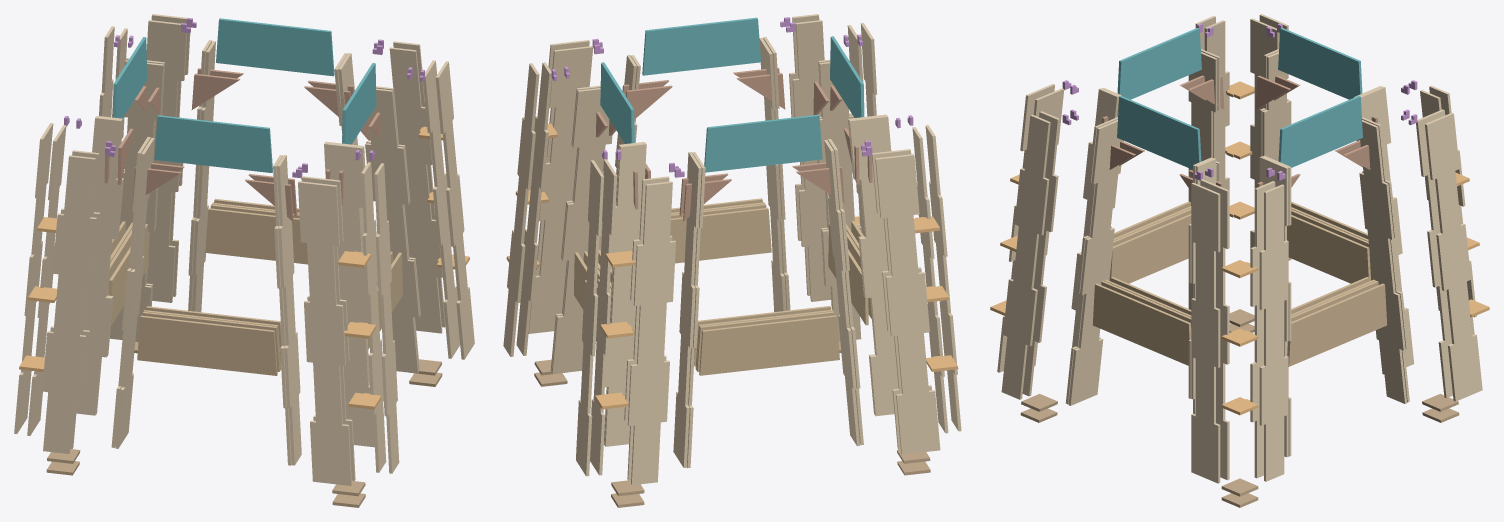
The model's file is R18A_FIX_EXPLODED.glb.
The picture shows the model from 3 angles, left to right: view 1: azimuth 30°, elevation 25°; view 2: azimuth 150°, elevation 25°; view 3: azimuth 270°, elevation 25°; orthographic projection. The views are drawn at different scales.
Parts seen in each view (by area): view 1: A01_LEG1_NEG_P1, A02_LEG4_NEG_P1, A02_LEG2_NEG_P2, A01_LEG1_POS_P1, C01_SIDE4_1_P1, A02_LEG2_POS_P2, A02_LEG4_POS_P1, B01_SIDE2_1_P1, B01_SIDE4_1_P1, A01_LEG3_NEG_P2, A01_LEG2_NEG_P1, A02_LEG1_NEG_P1 (+29 smaller); view 2: A01_LEG4_NEG_P1, A02_LEG3_NEG_P1, A01_LEG2_NEG_P2, A01_LEG2_POS_P2, A01_LEG4_POS_P1, C01_SIDE3_1_P1, A02_LEG3_POS_P1, B01_SIDE1_1_P1, B01_SIDE3_1_P1, A02_LEG1_NEG_P2, A01_LEG3_NEG_P1, A01_LEG3_POS_P1 (+30 smaller); view 3: A01_LEG2_NEG_P1, A01_LEG3_NEG_P1, A02_LEG2_NEG_P1, A02_LEG1_NEG_P1, A01_LEG1_POS_P2, A02_LEG3_POS_P2, C01_SIDE2_1_P1, C01_SIDE1_1_P1, B01_SIDE1_1_P1, B01_SIDE4_1_P1, B01_SIDE3_1_P1, B01_SIDE2_1_P1 (+25 smaller).
Boxes of the visible parts, x1=… form: A01_LEG1_NEG_P1: x1=298, y1=181, x2=351, y2=485; A02_LEG4_NEG_P1: x1=42, y1=155, x2=96, y2=453; A02_LEG2_NEG_P2: x1=389, y1=47, x2=442, y2=333; A01_LEG1_POS_P1: x1=324, y1=143, x2=374, y2=447; C01_SIDE4_1_P1: x1=137, y1=315, x2=277, y2=375; A02_LEG2_POS_P2: x1=365, y1=88, x2=419, y2=373; A02_LEG4_POS_P1: x1=76, y1=117, x2=122, y2=415; B01_SIDE2_1_P1: x1=216, y1=18, x2=334, y2=76; B01_SIDE4_1_P1: x1=154, y1=115, x2=272, y2=172; A01_LEG3_NEG_P2: x1=146, y1=20, x2=186, y2=302; A01_LEG2_NEG_P1: x1=435, y1=61, x2=474, y2=359; A02_LEG1_NEG_P1: x1=374, y1=163, x2=399, y2=473; A01_LEG4_NEG_P1: x1=875, y1=154, x2=940, y2=454; A02_LEG3_NEG_P1: x1=627, y1=181, x2=675, y2=485; A01_LEG2_NEG_P2: x1=528, y1=46, x2=593, y2=333; A01_LEG2_POS_P2: x1=551, y1=88, x2=612, y2=373; A01_LEG4_POS_P1: x1=849, y1=115, x2=898, y2=416; C01_SIDE3_1_P1: x1=699, y1=315, x2=839, y2=375; A02_LEG3_POS_P1: x1=604, y1=143, x2=646, y2=446; B01_SIDE1_1_P1: x1=642, y1=17, x2=760, y2=75; B01_SIDE3_1_P1: x1=704, y1=114, x2=822, y2=172; A02_LEG1_NEG_P2: x1=792, y1=20, x2=830, y2=301; A01_LEG3_NEG_P1: x1=576, y1=160, x2=604, y2=476; A01_LEG3_POS_P1: x1=673, y1=152, x2=701, y2=467; A01_LEG2_NEG_P1: x1=1191, y1=182, x2=1220, y2=483; A01_LEG3_NEG_P1: x1=1425, y1=113, x2=1482, y2=401; A02_LEG2_NEG_P1: x1=1259, y1=184, x2=1288, y2=481; A02_LEG1_NEG_P1: x1=1001, y1=114, x2=1050, y2=399; A01_LEG1_POS_P2: x1=1068, y1=120, x2=1123, y2=405; A02_LEG3_POS_P2: x1=1359, y1=120, x2=1407, y2=403; C01_SIDE2_1_P1: x1=1287, y1=283, x2=1387, y2=366; C01_SIDE1_1_P1: x1=1092, y1=283, x2=1191, y2=365; B01_SIDE1_1_P1: x1=1117, y1=96, x2=1201, y2=169; B01_SIDE4_1_P1: x1=1117, y1=27, x2=1201, y2=99; B01_SIDE3_1_P1: x1=1278, y1=27, x2=1362, y2=99; B01_SIDE2_1_P1: x1=1278, y1=96, x2=1362, y2=167.
Bounding box in the file's own units: 0.6548 × 0.4865 × 0.6548.
